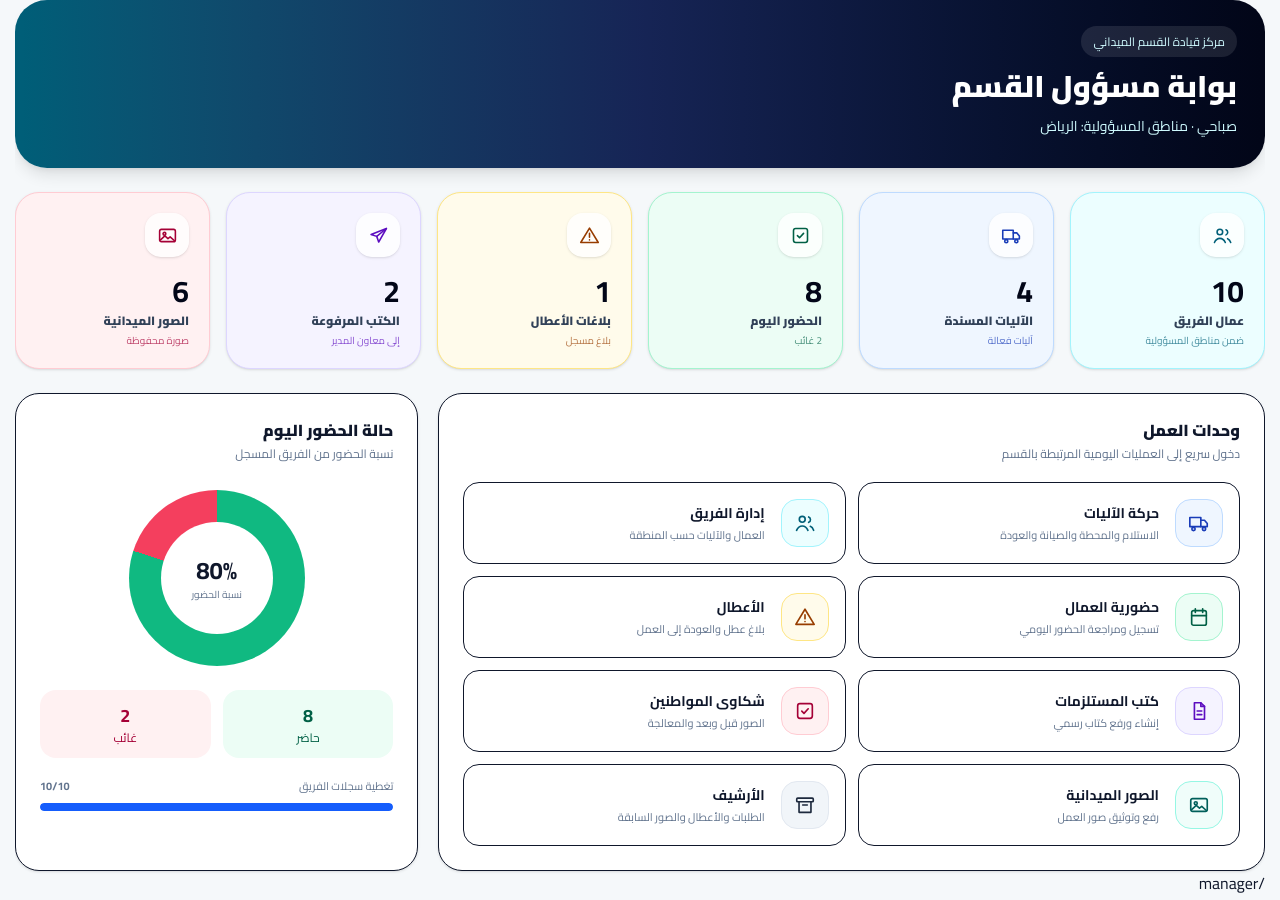
Test case: لوحة مسؤول القسم › تعرض بطاقات ملونة ورسم الحضور ووحدات العمل
Expected: the element with test id "mgr-stats" shows "عمال الفريق", [1174, 309, 1244, 332]
Expected: the heading "حالة الحضور اليوم" is shown, [263, 415, 393, 445]
Click the button "حركة الآليات الاستلام والمحطة والصيانة والعودة" at (1049, 523), box [858, 482, 1240, 564]
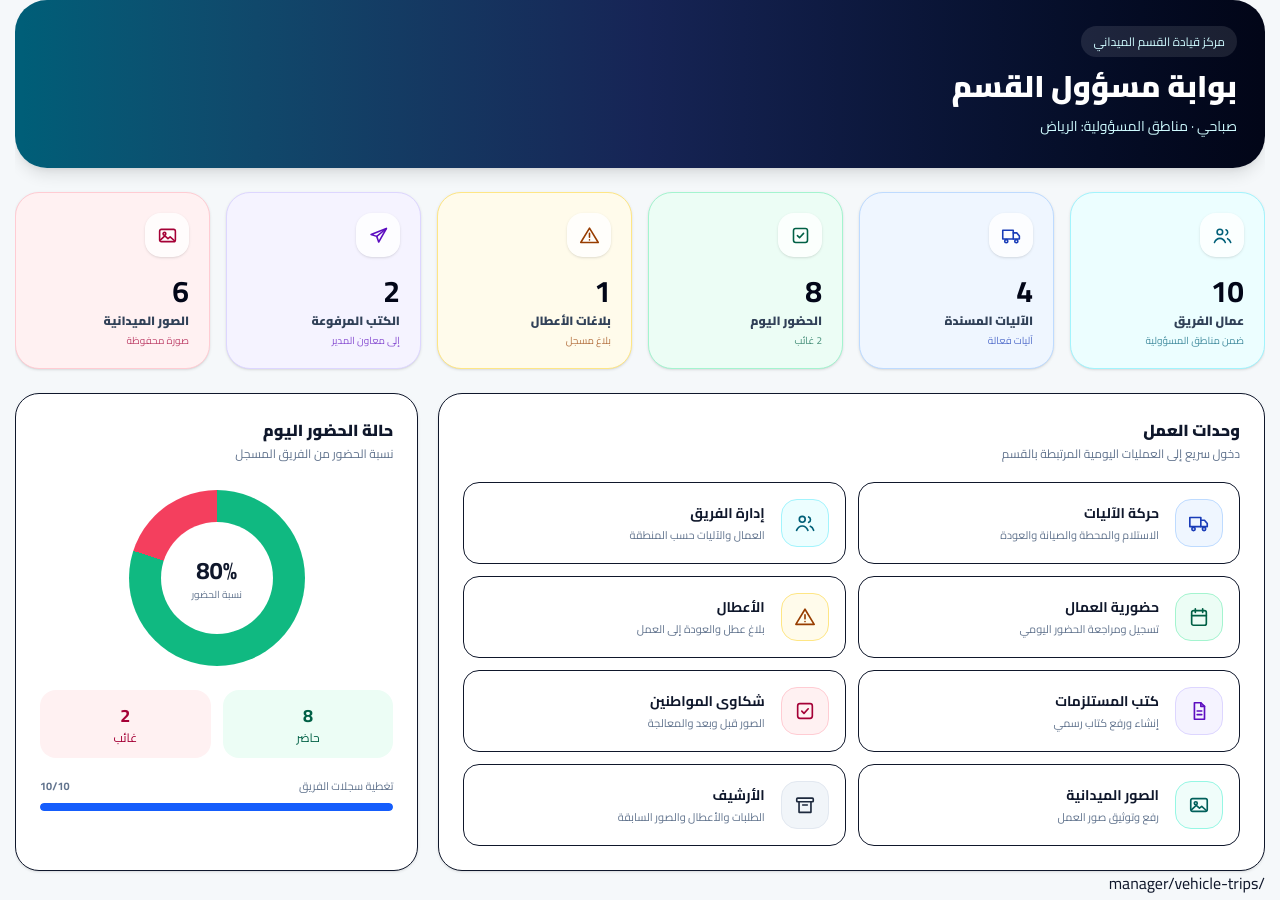
Expected: the text with test id "path" reads "/manager/vehicle-trips", [1109, 868, 1265, 898]
